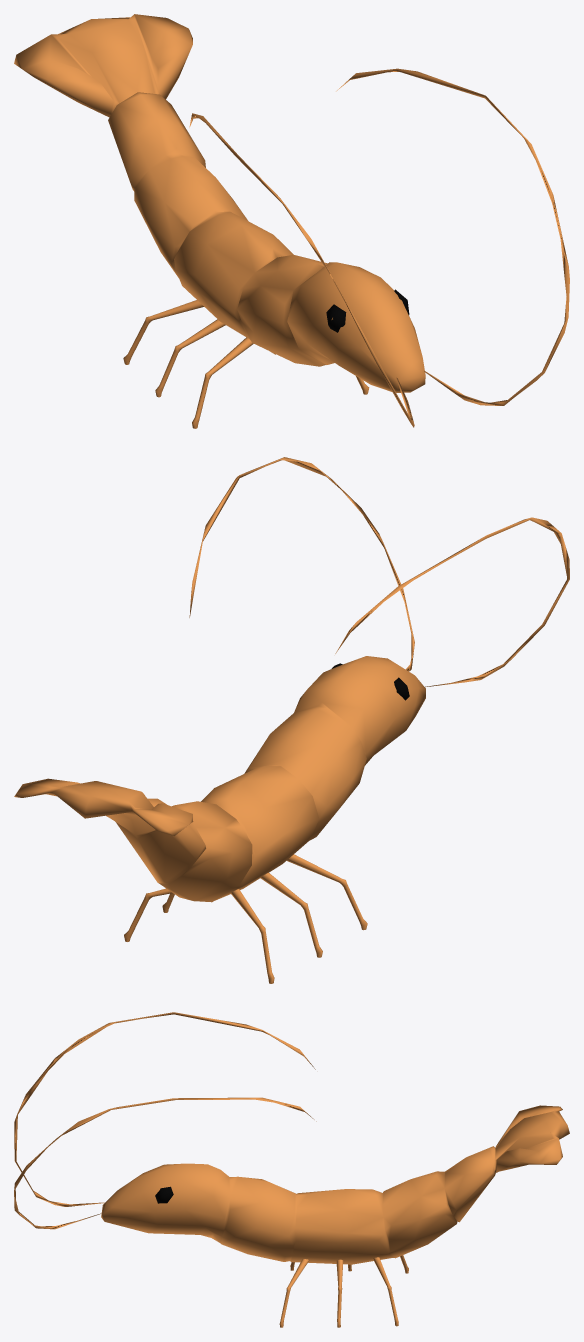
The model's file is shrimp.obj.
3 views of the same model, one above another, from view 1: azimuth 30°, elevation 25°; view 2: azimuth 150°, elevation 25°; view 3: azimuth 270°, elevation 25° (orthographic). The views are drawn at different scales.
Visible parts, largest first — view 1: Shrimp, leg_fr, leg_mr, leg_br; view 2: Shrimp, leg_fr, leg_mr, leg_br; view 3: Shrimp.
Boxes of the visible parts, left/top/right/bottom form: Shrimp: left=14, top=14, right=569, bottom=427; leg_fr: left=192, top=337, right=253, bottom=428; leg_mr: left=155, top=319, right=225, bottom=397; leg_br: left=123, top=300, right=203, bottom=364; Shrimp: left=14, top=457, right=569, bottom=902; leg_fr: left=286, top=854, right=367, bottom=930; leg_mr: left=260, top=872, right=322, bottom=957; leg_br: left=230, top=889, right=274, bottom=983; Shrimp: left=14, top=1012, right=569, bottom=1264.
Bounding box in the file's own units: 2.34 × 3.07 × 6.33.
2 materials, 2 textured.
